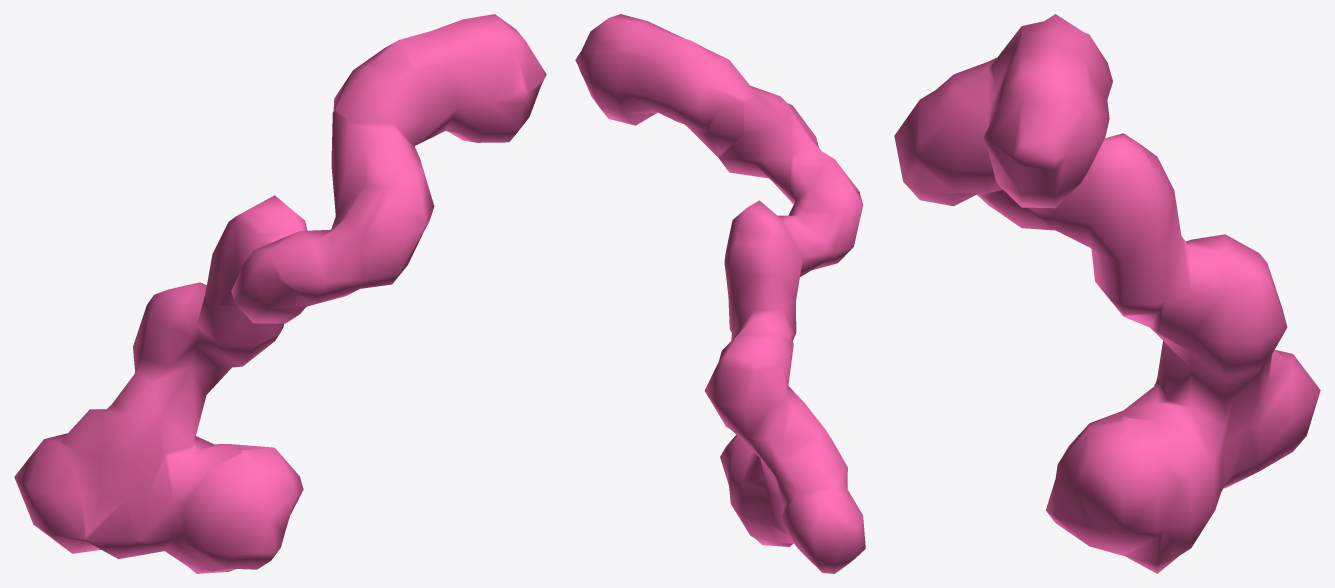
Rendered from Vesicle_115AAligned13.fbx.
The picture shows the model from 3 angles, left to right: view 1: azimuth 30°, elevation 25°; view 2: azimuth 150°, elevation 25°; view 3: azimuth 270°, elevation 25°; orthographic projection. The views are drawn at different scales.
Visible parts, largest first — view 1: vesicle_MeshVes115Mesh; view 2: vesicle_MeshVes115Mesh; view 3: vesicle_MeshVes115Mesh.
Boxes of the visible parts, bbox=[...] form: vesicle_MeshVes115Mesh: bbox=[14, 14, 546, 573]; vesicle_MeshVes115Mesh: bbox=[575, 14, 865, 573]; vesicle_MeshVes115Mesh: bbox=[894, 14, 1320, 573].
Size of the model in its own units: 91.62 by 112 by 67.48.
